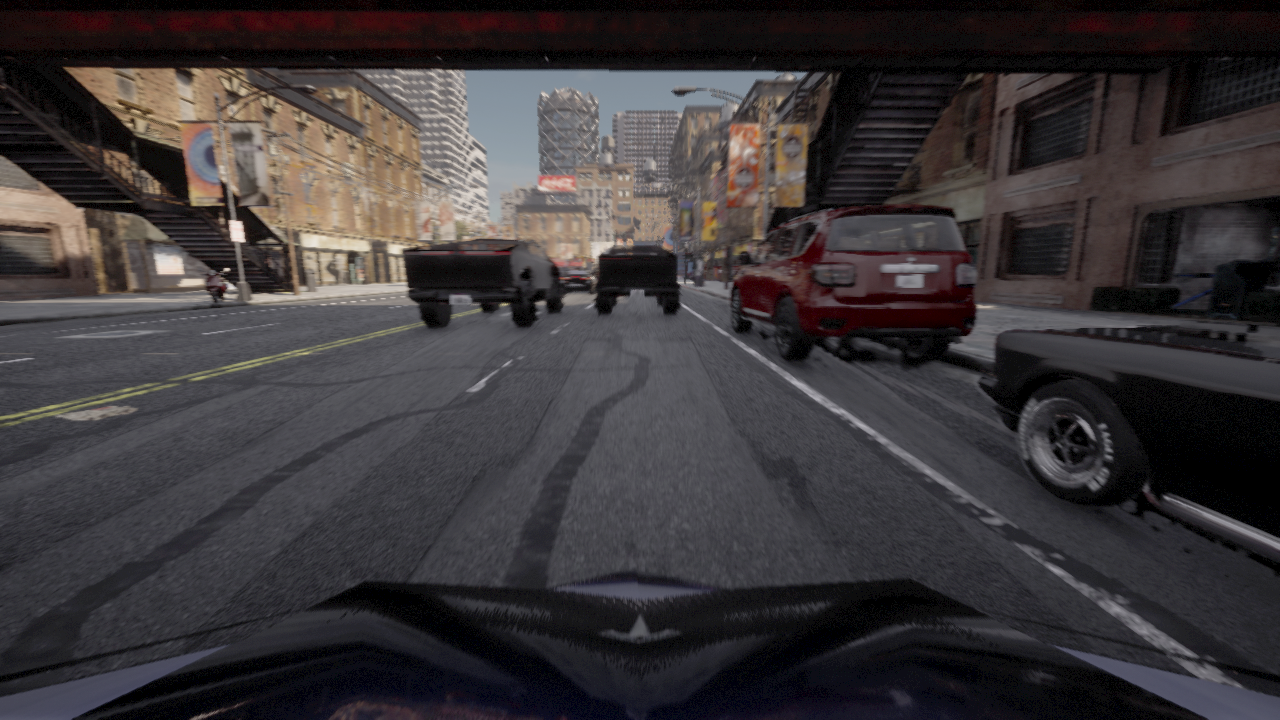cyclist: (0, 569, 1279, 719), (977, 322, 1279, 565), (730, 206, 976, 360), (402, 239, 564, 328), (594, 246, 680, 314), (198, 268, 228, 302), (560, 268, 597, 293)
